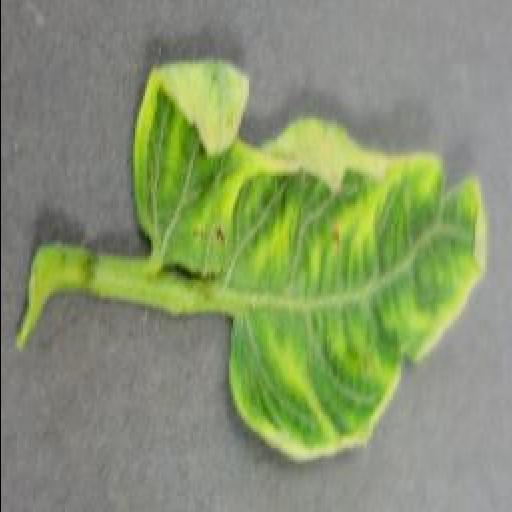disease_tomato: (130, 62, 490, 463)
